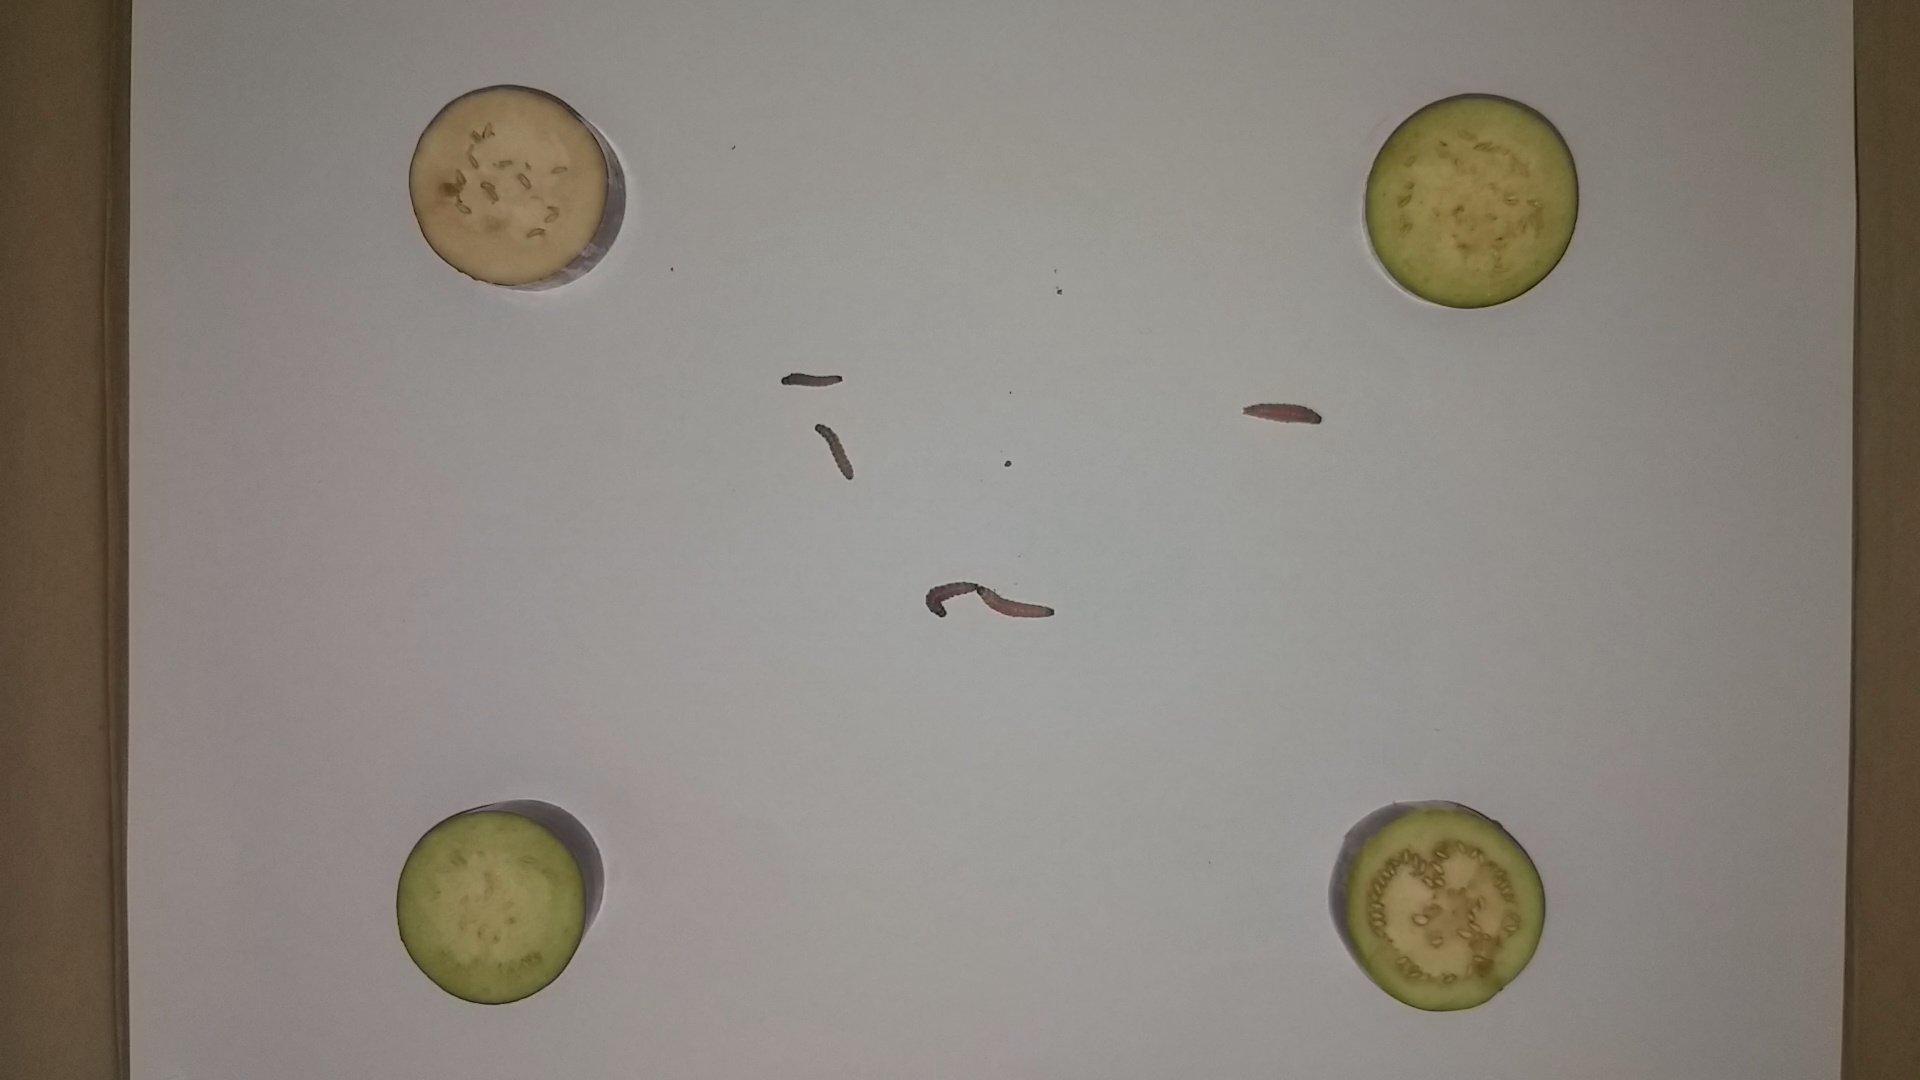efsb: (1228, 397, 1335, 436), (808, 417, 862, 487), (968, 585, 1054, 626), (916, 574, 982, 625), (775, 363, 852, 406)
eggplant: (1358, 91, 1598, 316), (402, 79, 638, 305), (1327, 794, 1564, 1015), (392, 793, 609, 1011)
